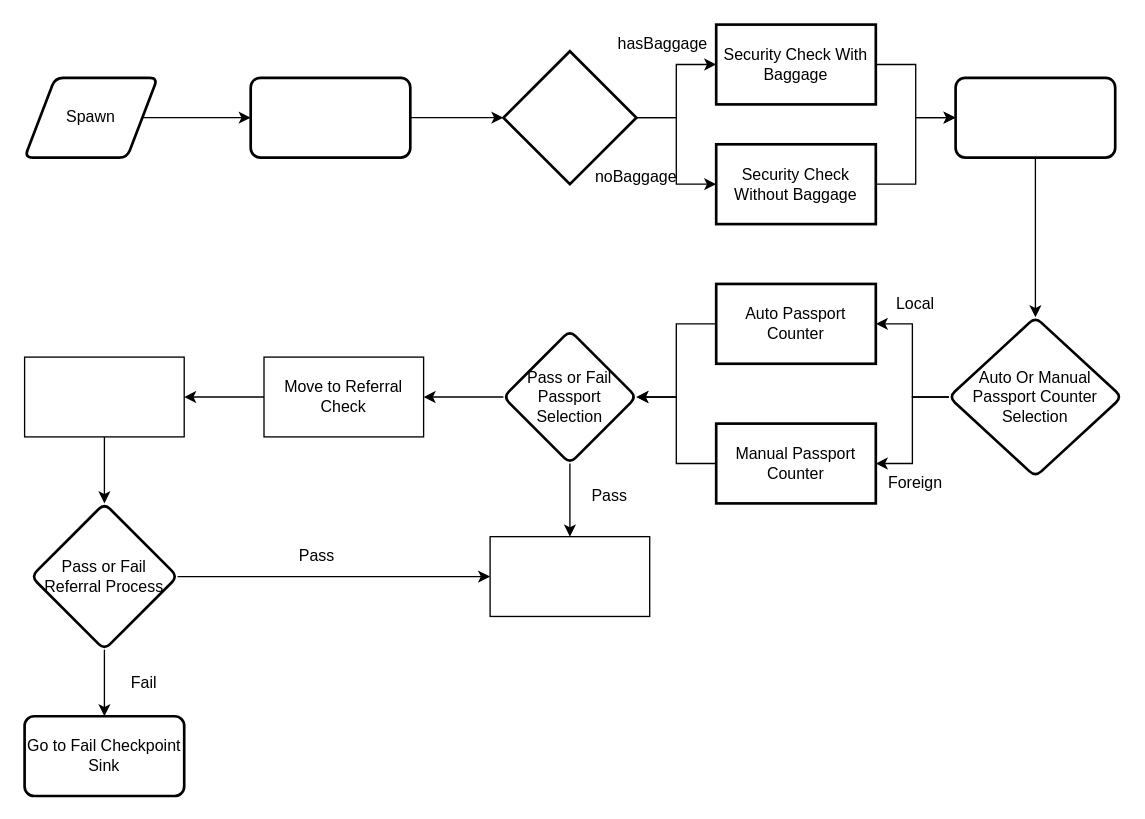
Image size: 1145x819. Some labels were removed from this diagram. Each missing label, with the box of its shape:
Bag Or No Baggage Selection: (501, 49, 637, 185)
Go to Success Checkpoint Sink: (489, 535, 650, 616)
Move to Phase 1: Security Queue Selection: (249, 76, 411, 158)
Move to Phase 2: Passport Counter Selection: (954, 76, 1116, 158)
Start Referral Process: (23, 356, 184, 437)
